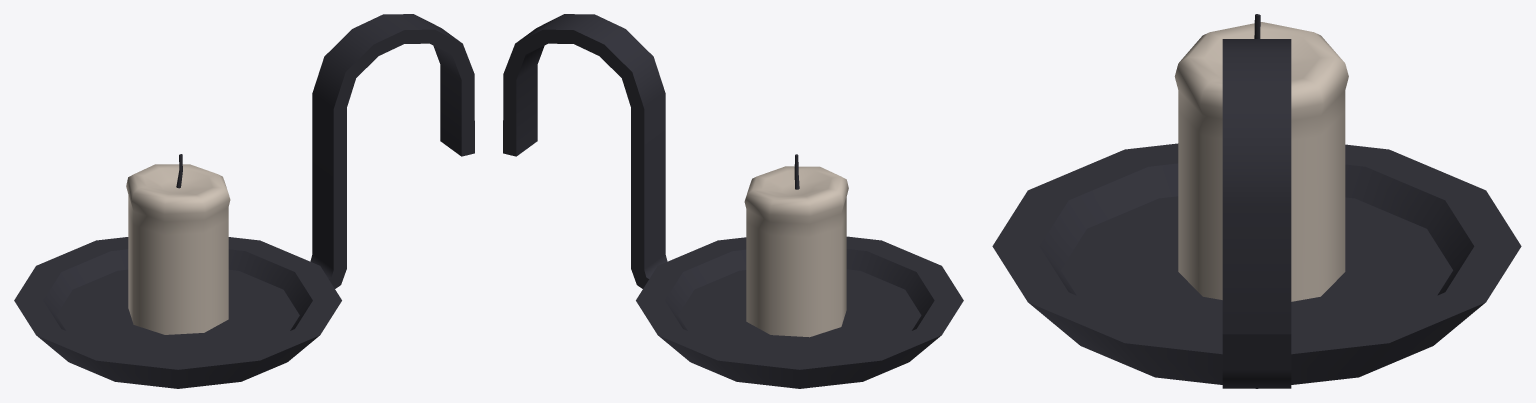
Rendered from CandleHolder_02.fbx.
3 views of the same model, side by side, from view 1: azimuth 30°, elevation 25°; view 2: azimuth 150°, elevation 25°; view 3: azimuth 270°, elevation 25° (orthographic). The views are drawn at different scales.
Visible parts, largest first — view 1: CandleHolder_02; view 2: CandleHolder_02; view 3: CandleHolder_02.
Boxes of the visible parts, left/top/right/bottom form: CandleHolder_02: left=14, top=14, right=474, bottom=388; CandleHolder_02: left=503, top=14, right=963, bottom=388; CandleHolder_02: left=992, top=14, right=1521, bottom=388.
Bounding box in the file's own units: 0.1879 × 0.1093 × 0.1247.
